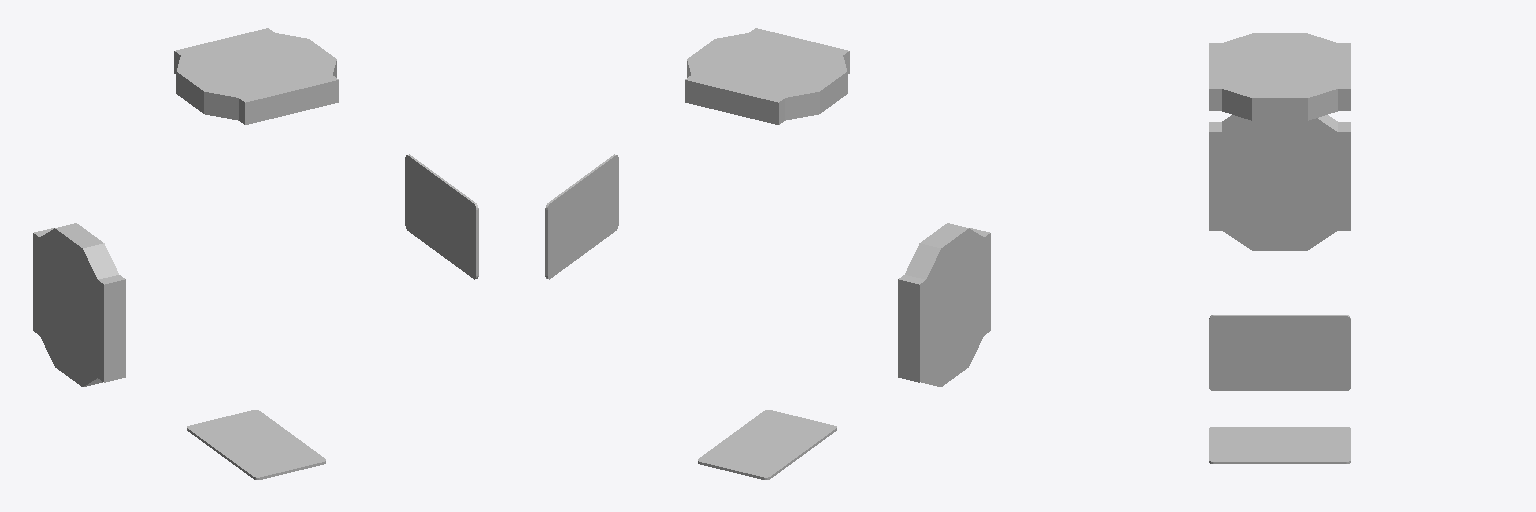
File: Electronics.obj
The picture shows the model from 3 angles: view 1: azimuth 30°, elevation 25°; view 2: azimuth 150°, elevation 25°; view 3: azimuth 270°, elevation 25°; orthographic projection.
Parts seen in each view (by area): view 1: Volumenkörper1:1, Volumenkörper1:6, Volumenkörper1, 0Neu; view 2: Volumenkörper1:1, Volumenkörper1:6, Volumenkörper1, 0Neu; view 3: Volumenkörper1:1, Volumenkörper1:6, Volumenkörper1, 0Neu.
Part boxes in pixels (x1,y1,x2,y2): Volumenkörper1:1: (33, 223, 125, 386); Volumenkörper1:6: (174, 28, 338, 124); Volumenkörper1: (405, 154, 478, 279); 0Neu: (187, 410, 325, 479); Volumenkörper1:1: (898, 223, 990, 386); Volumenkörper1:6: (685, 28, 849, 124); Volumenkörper1: (545, 154, 618, 279); 0Neu: (698, 410, 836, 479); Volumenkörper1:1: (1209, 115, 1350, 250); Volumenkörper1:6: (1209, 33, 1350, 120); Volumenkörper1: (1209, 315, 1350, 390); 0Neu: (1209, 427, 1350, 463).
Bounding box in the file's own units: 259 × 252 × 85.